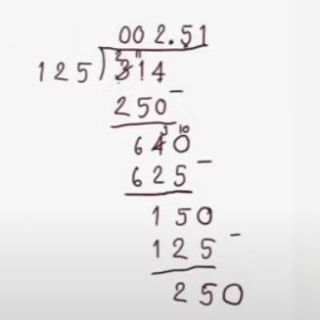.: (167, 37, 176, 46)
0: (220, 281, 245, 306), (173, 134, 192, 153), (196, 206, 214, 226), (117, 24, 132, 45), (132, 23, 145, 45), (154, 96, 167, 116)
1: (151, 203, 161, 228), (36, 59, 45, 84), (199, 23, 207, 45), (138, 59, 145, 81), (153, 238, 160, 260)
2: (113, 95, 131, 117), (172, 236, 188, 260), (172, 280, 188, 304), (53, 60, 69, 82), (152, 164, 166, 184), (153, 24, 166, 45)
4: (151, 60, 166, 84)
5: (199, 280, 217, 307), (136, 95, 152, 119), (200, 237, 217, 259), (77, 60, 93, 83), (180, 24, 194, 49), (173, 164, 188, 187), (175, 207, 191, 226)
6: (131, 166, 143, 188), (134, 135, 143, 156)
